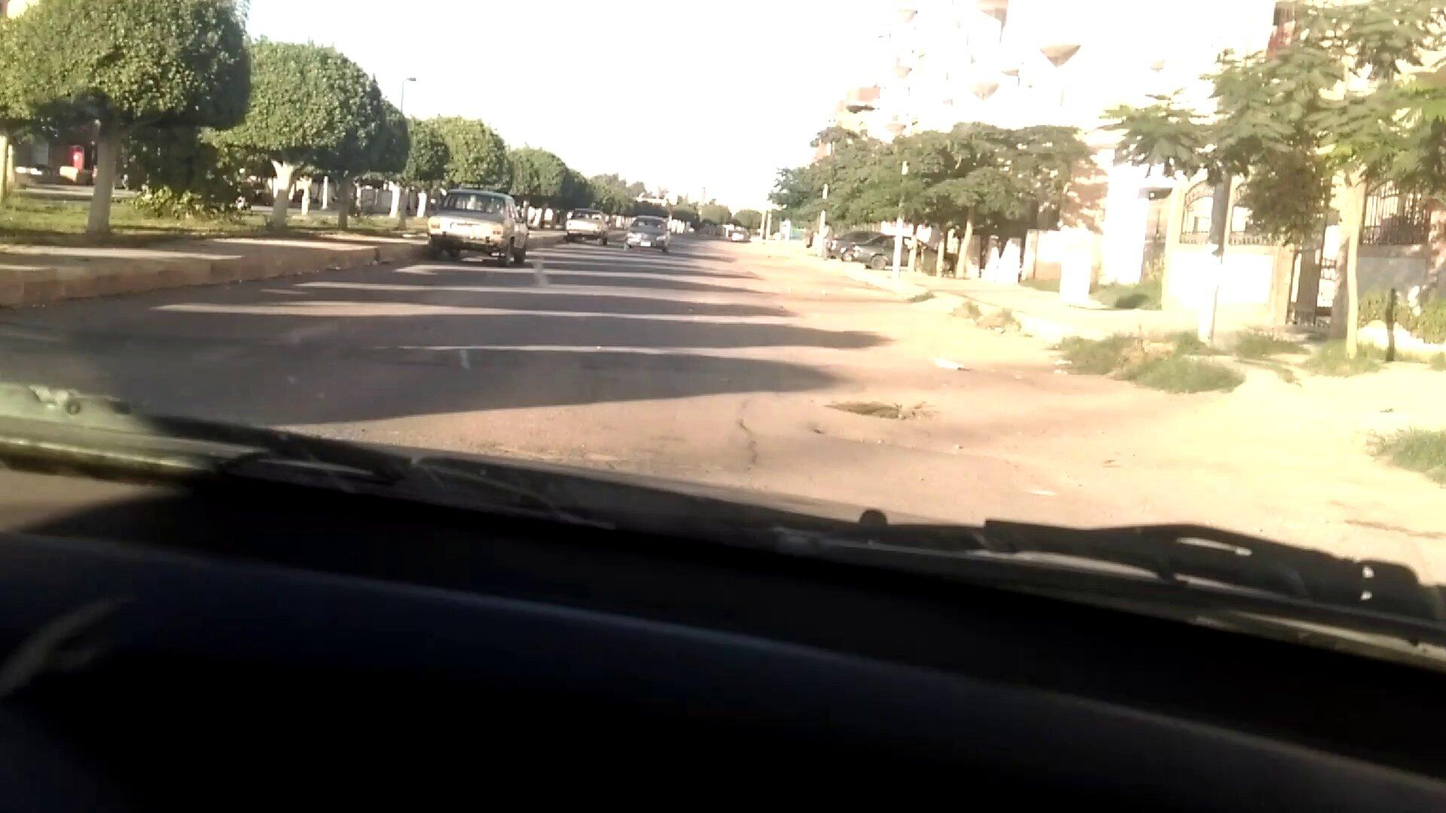Pothole: (747, 367, 1039, 506)
